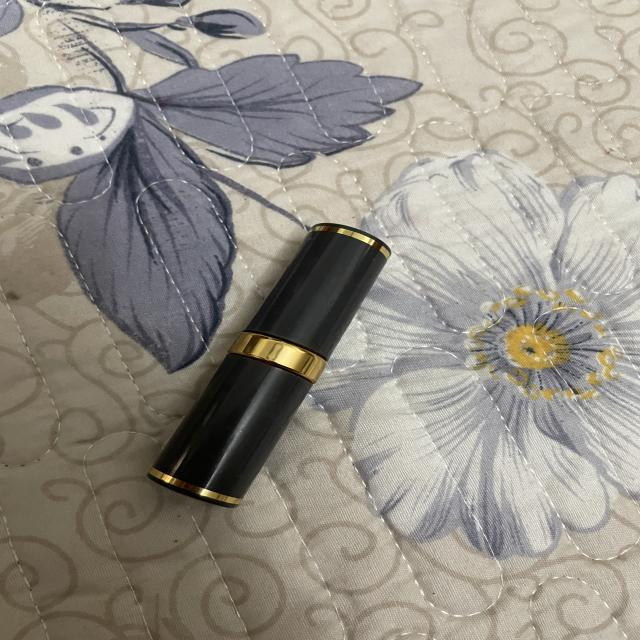lip stick: (139, 202, 398, 505)
